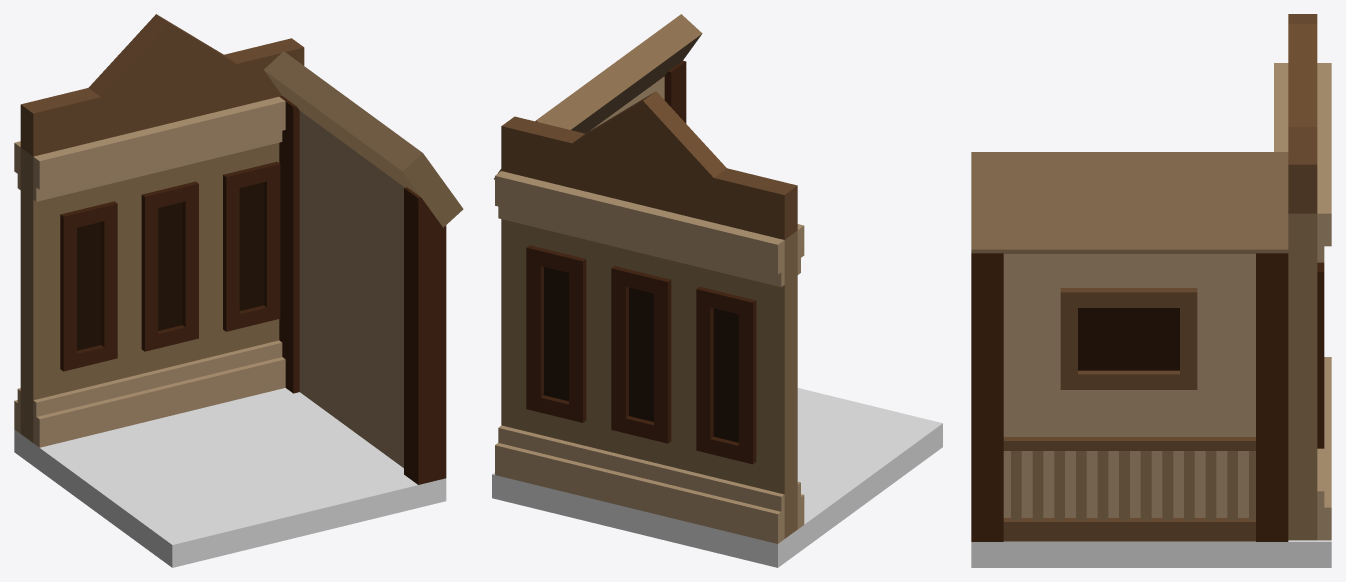
File: tileLwall_2.fbx
3 views of the same model, side by side, from view 1: azimuth 30°, elevation 25°; view 2: azimuth 150°, elevation 25°; view 3: azimuth 270°, elevation 25° (orthographic). The views are drawn at different scales.
Visible parts, largest first — view 1: Cube.001, Cube, Cube.002, Cube.005, Cube.008, Cube.007; view 2: Cube.001, Cube, Cube.008, Cube.005; view 3: Cube.002, Cube.008, Cube.001, Cube, Cube.005, Cube.007, Cube.013, Cube.022, Cube.024, Cube.003, Cube.006.
Part boxes in pixels (<box>): Cube.001: <box>14,14,304,447</box>; Cube: <box>14,388,446,567</box>; Cube.002: <box>299,111,404,467</box>; Cube.005: <box>404,187,446,484</box>; Cube.008: <box>264,51,463,227</box>; Cube.007: <box>279,96,299,393</box>; Cube.001: <box>495,91,804,543</box>; Cube: <box>492,388,942,567</box>; Cube.008: <box>494,14,702,179</box>; Cube.005: <box>664,60,686,123</box>; Cube.002: <box>1003,254,1255,517</box>; Cube.008: <box>971,152,1288,253</box>; Cube.001: <box>1274,14,1331,540</box>; Cube: <box>971,540,1331,567</box>; Cube.005: <box>971,253,1003,541</box>; Cube.007: <box>1256,253,1288,541</box>; Cube.013: <box>1011,451,1255,520</box>; Cube.022: <box>1060,288,1197,389</box>; Cube.024: <box>1078,308,1179,370</box>; Cube.003: <box>1003,518,1255,541</box>; Cube.006: <box>1003,437,1255,450</box>.
Size of the model in its own units: 532 by 715 by 500.
3 materials, 2 textured.
